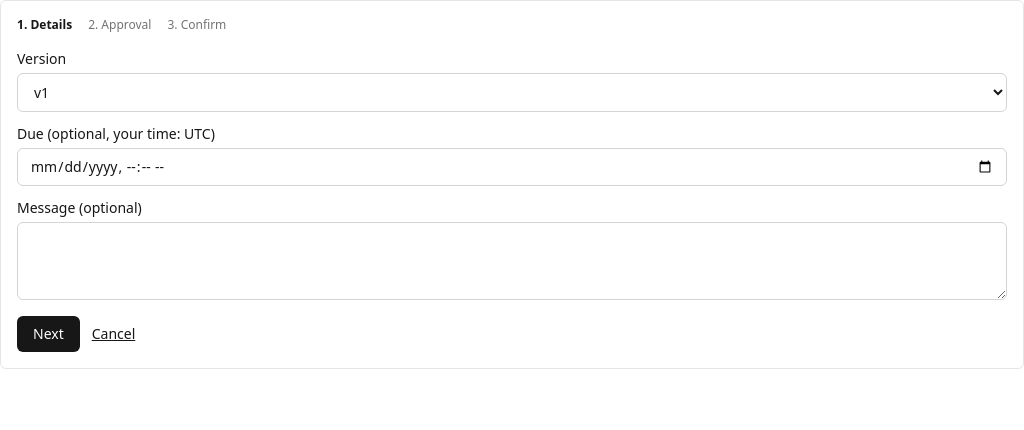
it: RequestReviewWizard › won't go on while 'at least' asks for more approvals than there are reviewers
Click the button "Next" at (48, 334), box left=17, top=316, right=80, bottom=352
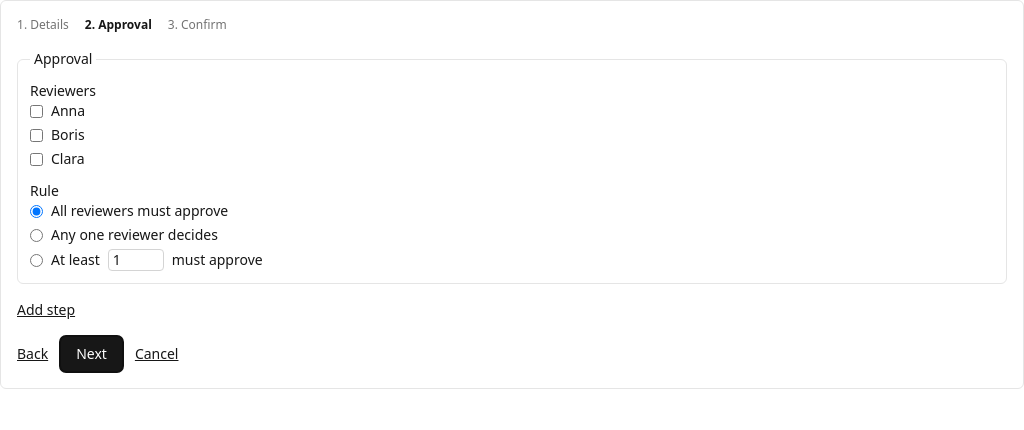
Click the checkbox labelled "Anna" at (36, 111), box left=30, top=104, right=43, bottom=118
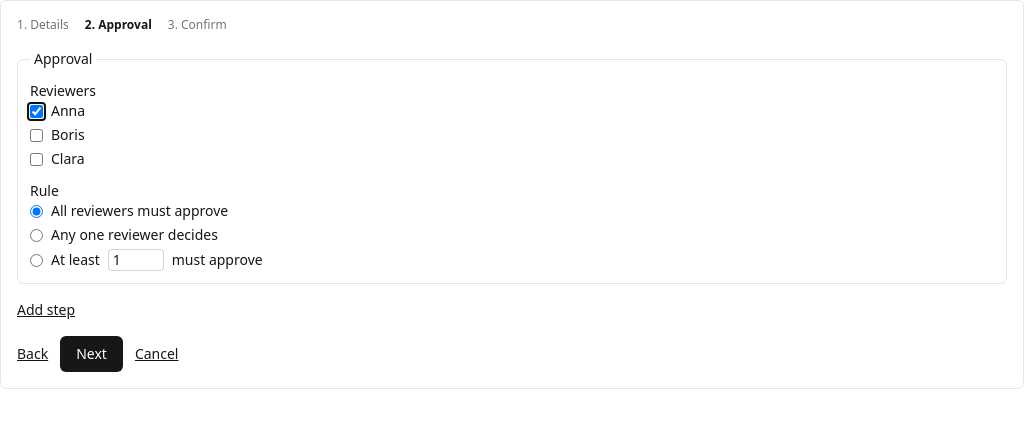
Click the radio button labelled "At least must approve" at (36, 260), box left=30, top=254, right=43, bottom=266
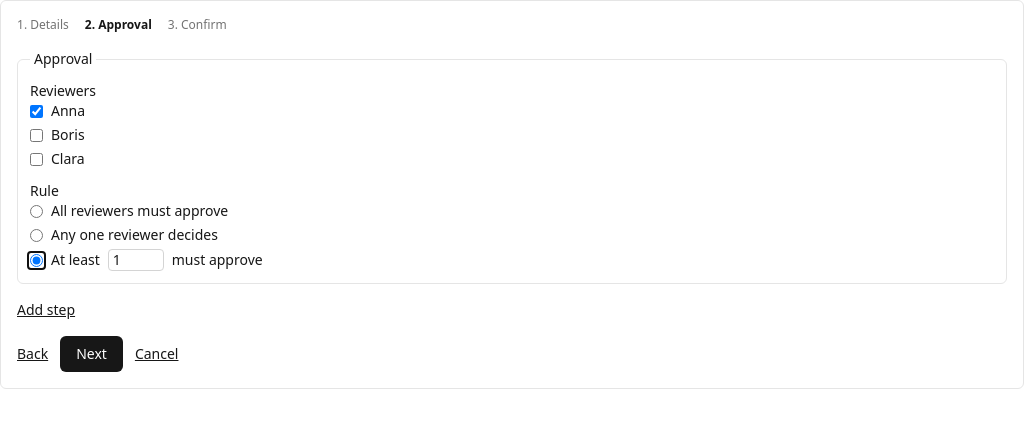
Replace the text in the number field named "Required approvals" with "2" at (136, 260), box left=108, top=249, right=164, bottom=271
Click the button "Next" at (92, 354), box left=60, top=336, right=123, bottom=372
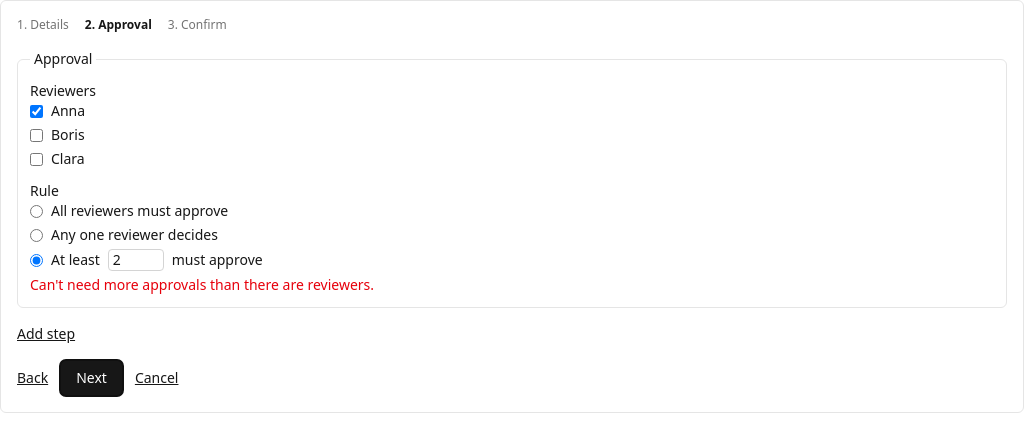
expect the button "Request review" is not shown: met
expect the text "Can't need more approvals than there are reviewers." is shown: met, box left=30, top=275, right=374, bottom=294
Switching the rule back to "all" clears the problem.
Click the radio button labelled "All reviewers must approve" at (36, 211), box left=30, top=204, right=43, bottom=218
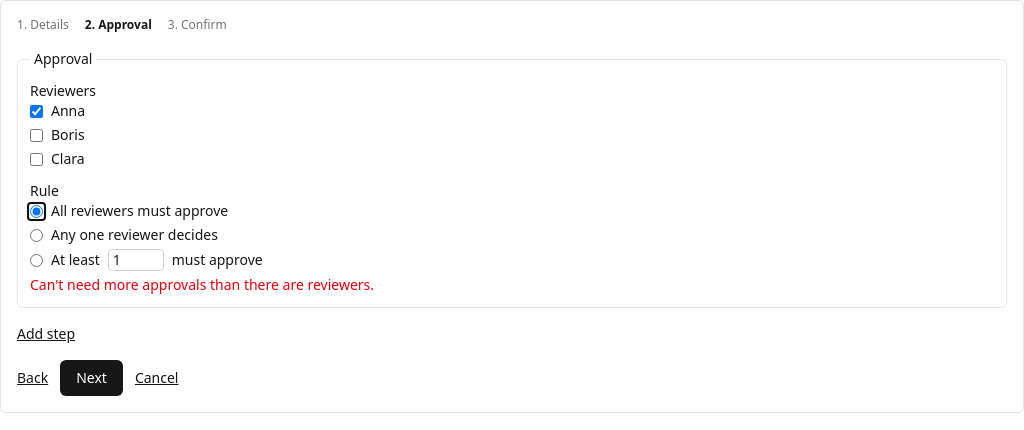
Click the button "Next" at (92, 378), box left=60, top=360, right=123, bottom=396
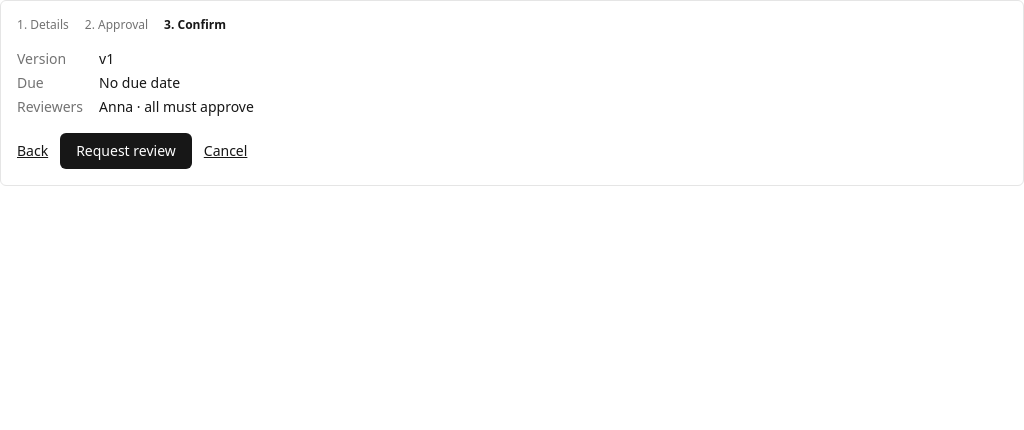
expect the button "Request review" is shown: met, box left=60, top=133, right=192, bottom=169
